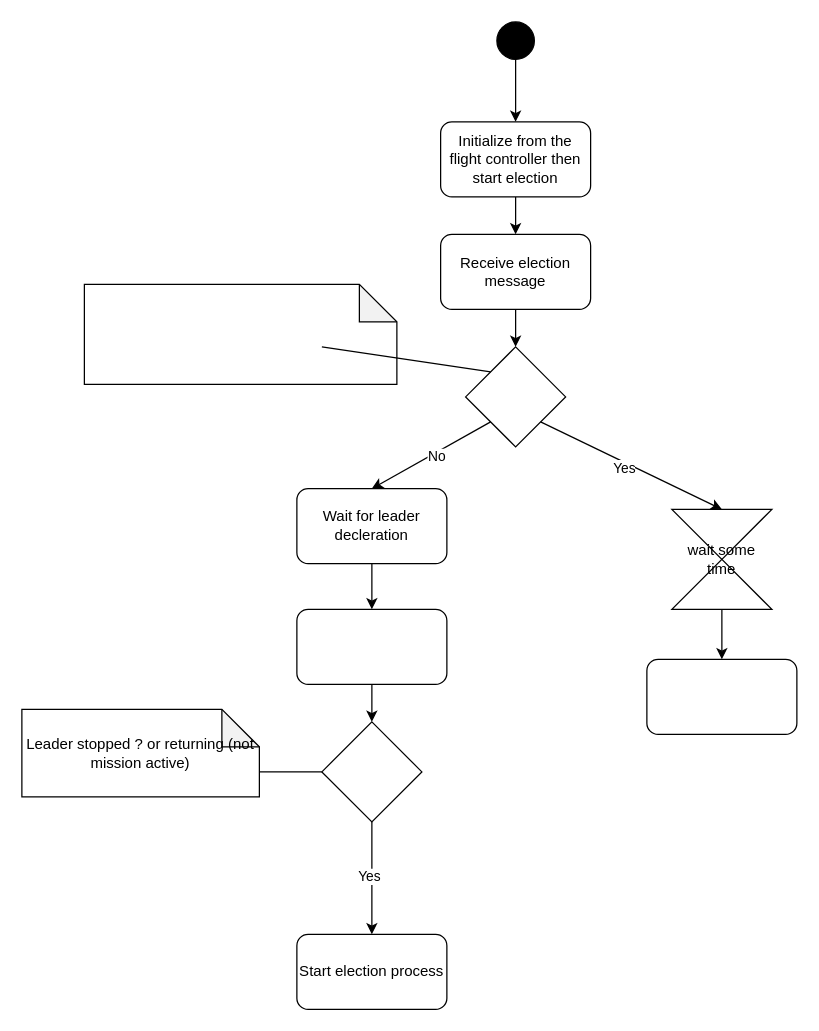
The diagram is 819 pixels wide and 1031 high, and some of its shapes have lost their labels. Each missing label, with the box of its shape:
Am I higher in prioririty and mission active?: (83, 283, 397, 384)
Broadcast myself as the leader: (646, 658, 797, 734)
Monitor heartbeat of the leader: (296, 608, 447, 684)
